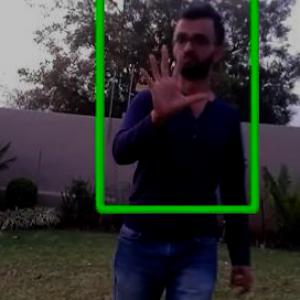follow_hand: (134, 36, 210, 122)
